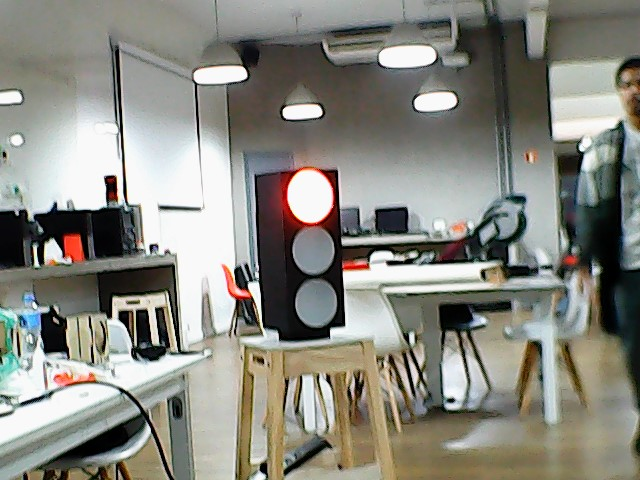vermelho: (252, 168, 354, 329)
